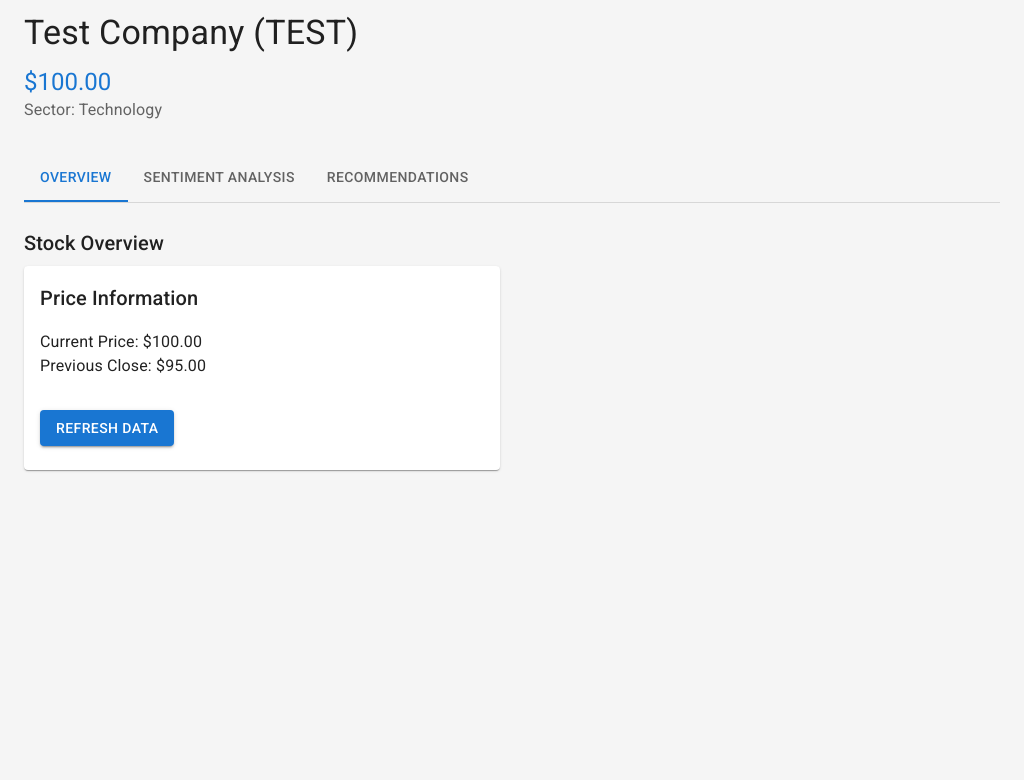
Test case: StockDetails Component › loads recommendation data and displays it
The width and height of the screenshot is (1024, 780).
Click the tab "Recommendations".
click(398, 178)  # box left=311, top=154, right=485, bottom=202
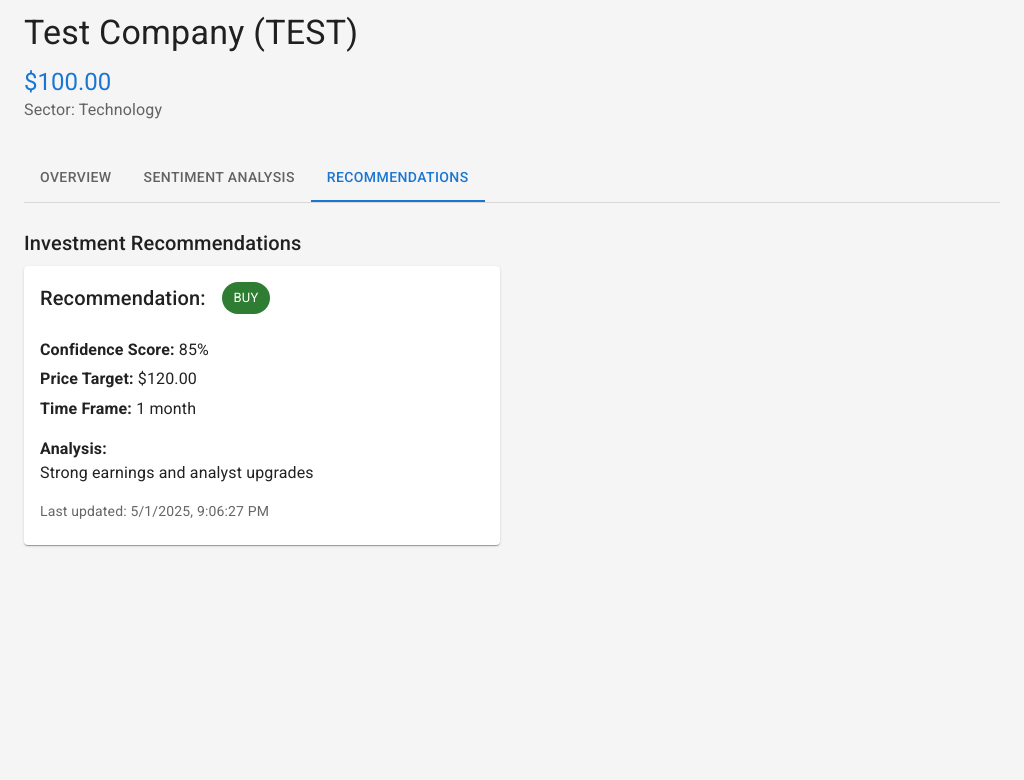
Expected: the heading "Recommendation:" is shown, left=40, top=282, right=206, bottom=314
Expected: the text "BUY" is shown, left=234, top=290, right=258, bottom=305
Expected: the text "Confidence Score:" is shown, left=40, top=340, right=175, bottom=359
